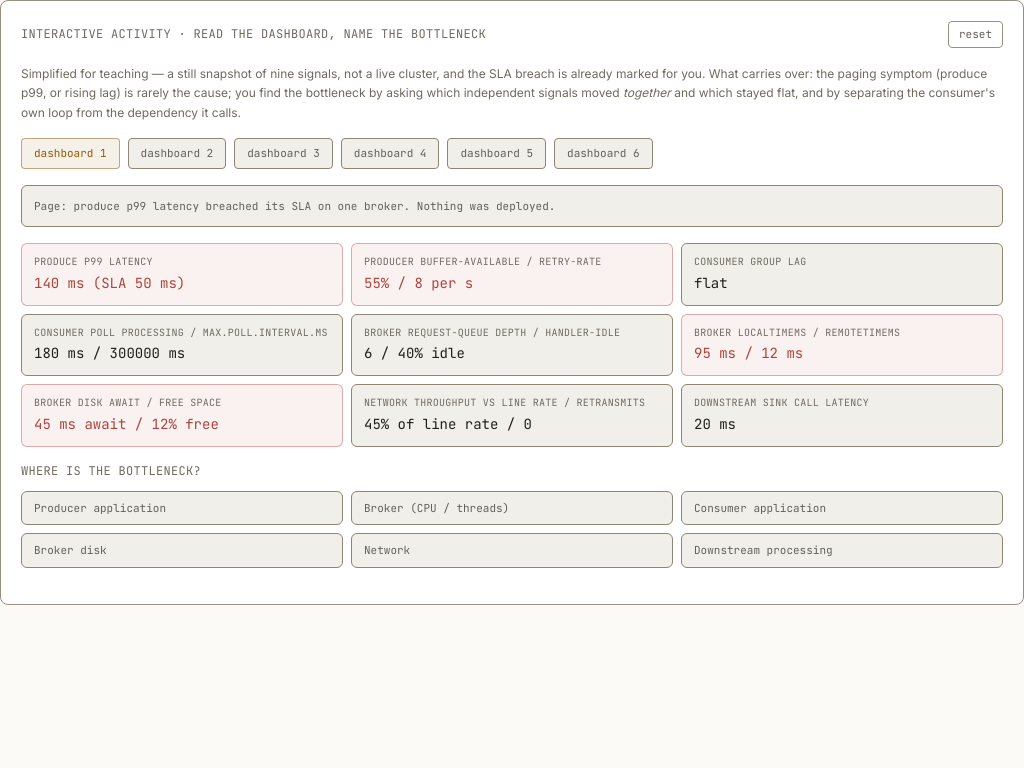
Test: BottleneckDiagnosis › a wrong pick explains that cause's real signature and still gives the answer
Click the button "Producer application" at [100, 508], box [21, 490, 343, 525]
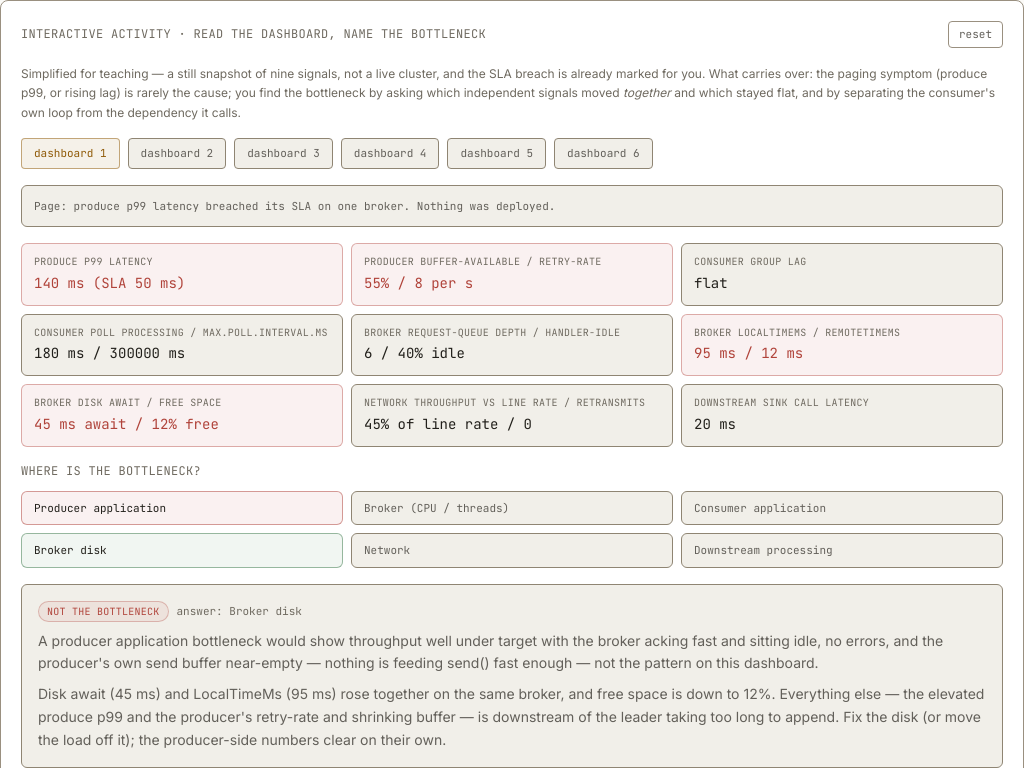
Expected: the text "not the bottleneck" is shown, [38, 600, 168, 622]
Expected: the element with test id "bd-feedback" shows "A producer application bottleneck would show throughput well under target", [21, 584, 1003, 767]
Expected: the element with test id "bd-feedback" shows "the producer's own send buffer near-empty", [38, 632, 943, 671]
